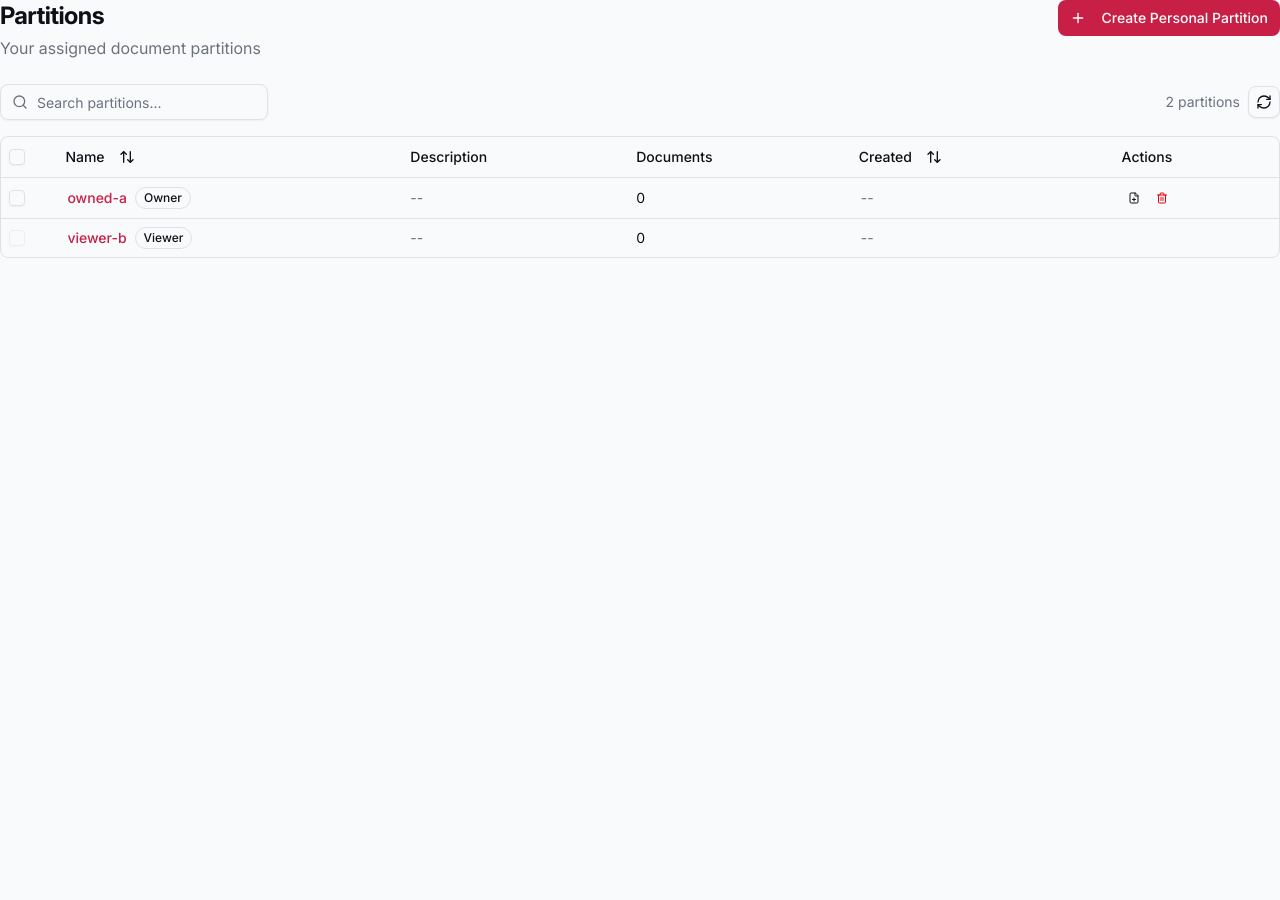
PartitionListPage bulk actions › keeps the create dialog actions reachable with a scrollable form body
Click the button "Create Personal Partition". click: (1169,18)
box: [1058,0,1279,36]
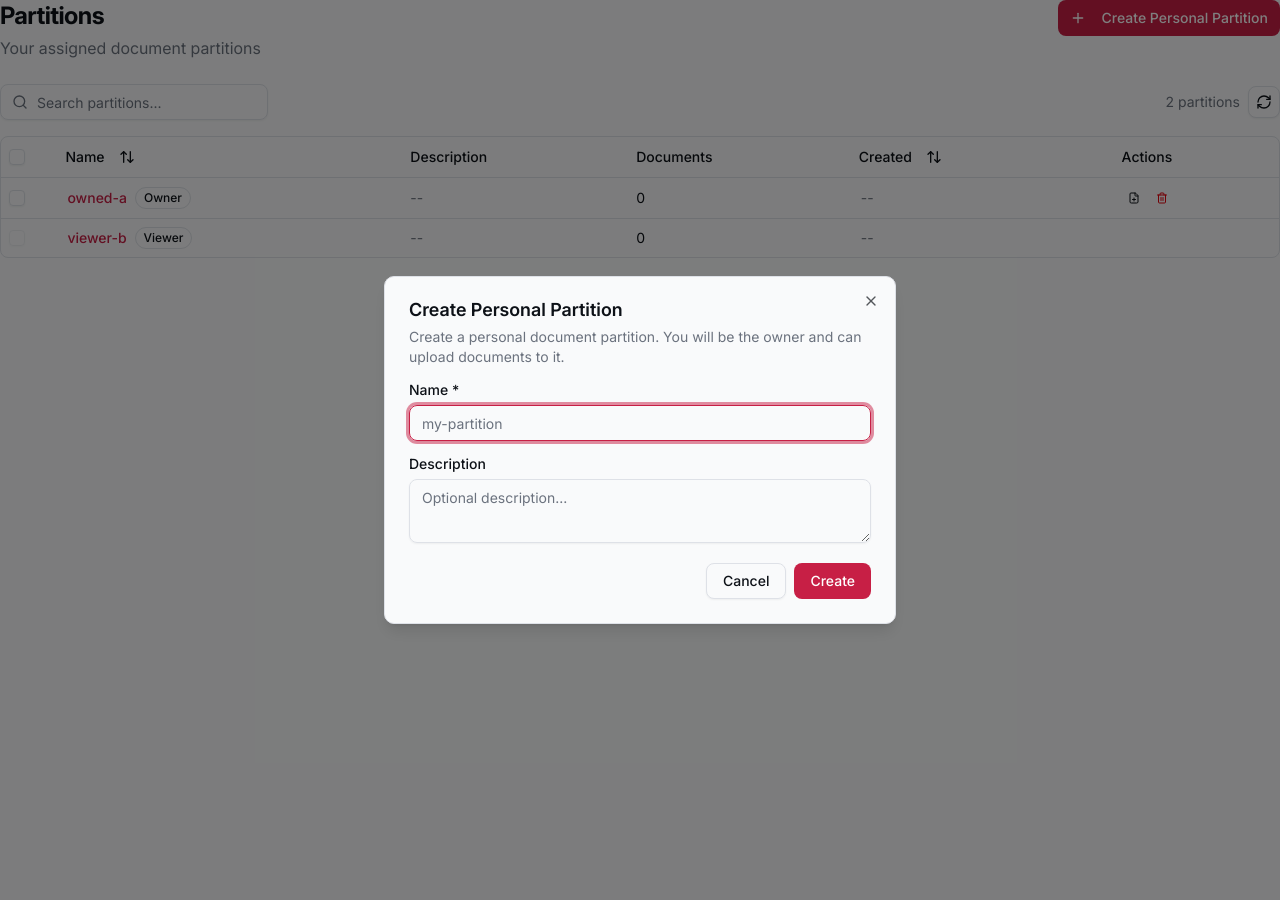
Now the button "Cancel" is shown, box [706,563,786,599]
Now the button "Create" is shown, box [794,563,871,599]
